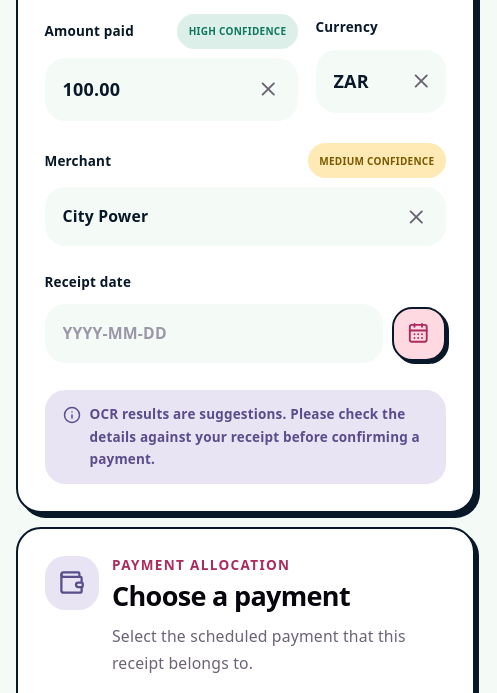
Test case: ReceiptReviewPage › opens the calendar on the current month without filling an empty date
(page scrolled)
Click the button named "Choose receipt date" at x=418, y=334, box top-left (392, 307), bottom-right (446, 361)
(page scrolled)
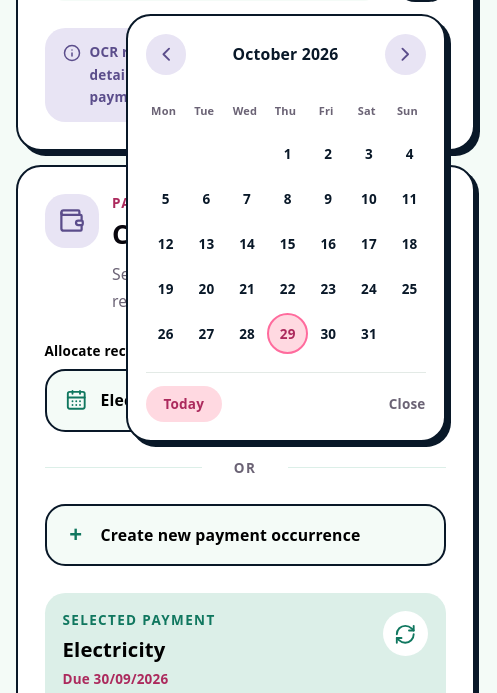
Expected: the element named "Receipt date calendar" is shown, top-left (126, 14), bottom-right (446, 442)
